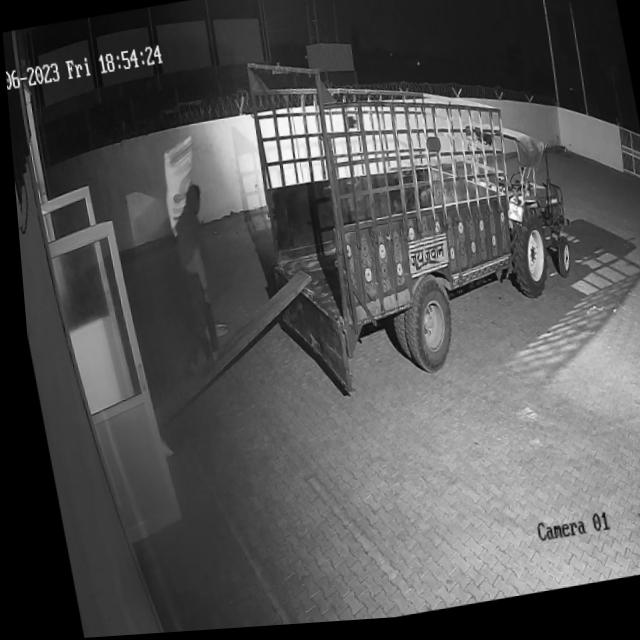sack: (150, 137, 204, 236)
